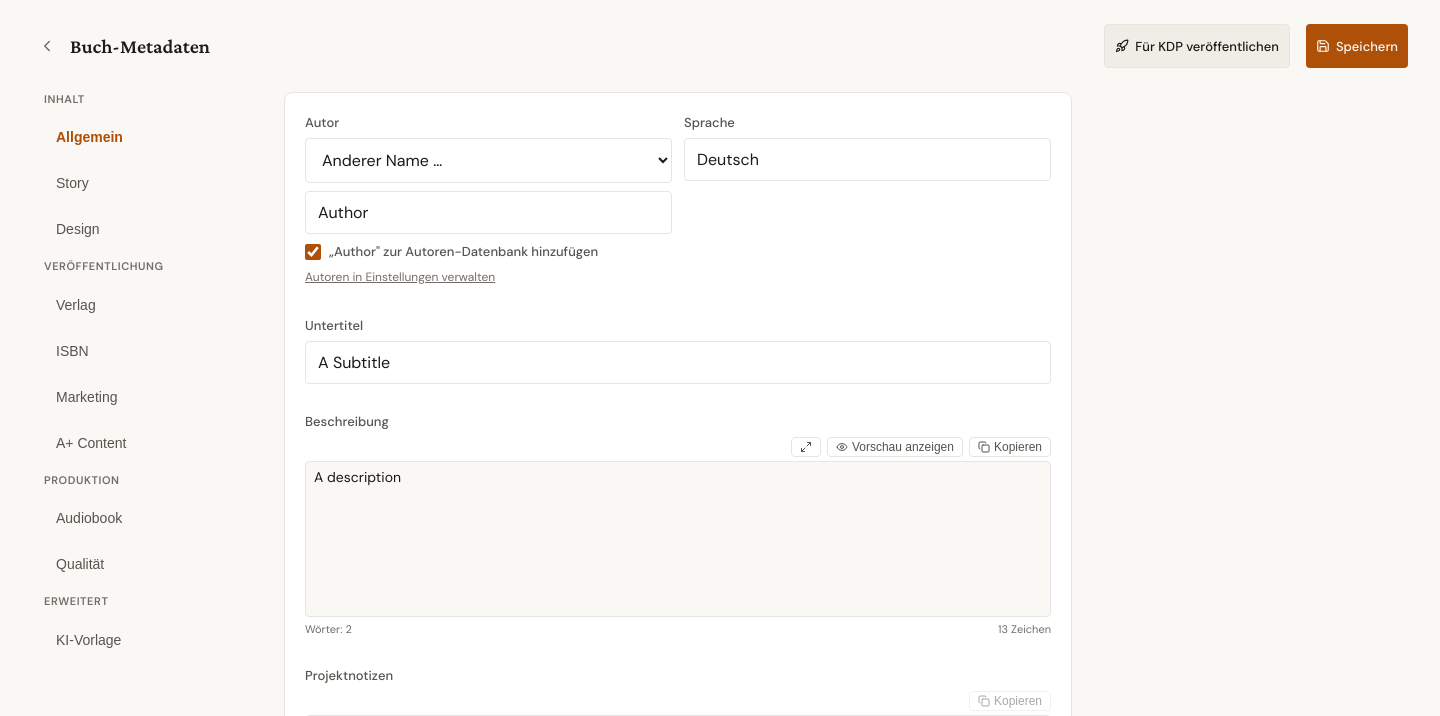
BookMetadataEditor › only the active section is mounted; switching swaps it
The image size is (1440, 716).
Expected: the field showing "A Subtitle" is shown, [305,341,1051,384]
Expected: the text "ISBN E-Book" is not shown
Click the button with test id "metadata-tab-isbn": (142, 351) [32,329,252,373]
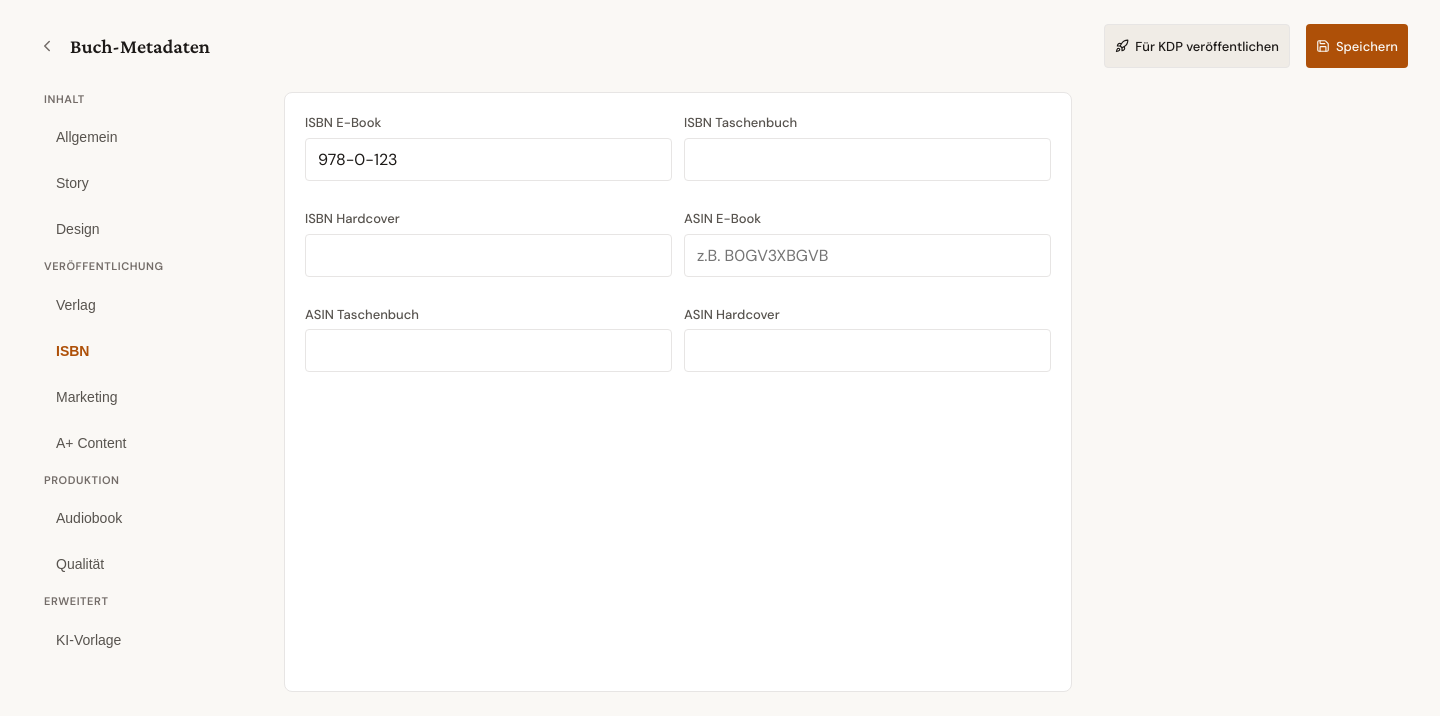
Expected: the field showing "A Subtitle" is not shown
Now the text "ISBN E-Book" is shown, box [305,114,381,131]
